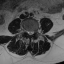CCS_stenosis: (29, 29, 31, 37)
LFS_normal: (33, 28, 36, 34)
LLS_normal: (31, 29, 33, 35)
RFS_normal: (25, 28, 27, 34)
RLS_normal: (27, 29, 29, 36)
